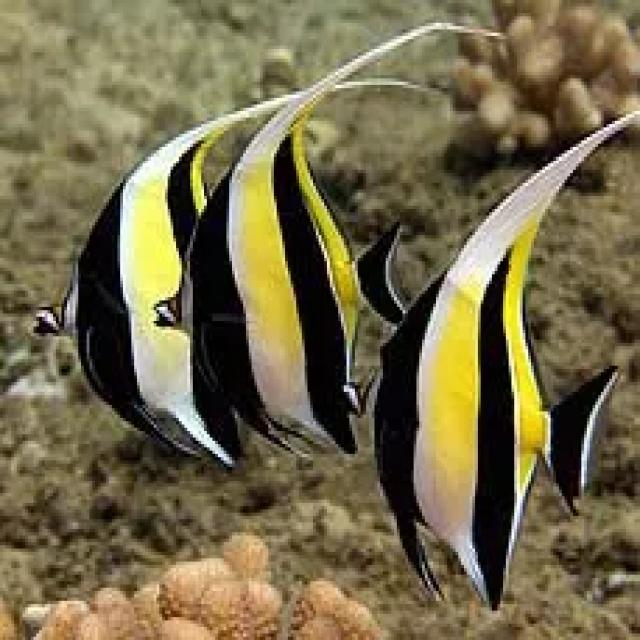MorishIdol: (151, 16, 506, 474), (33, 78, 440, 461), (352, 98, 637, 611)
